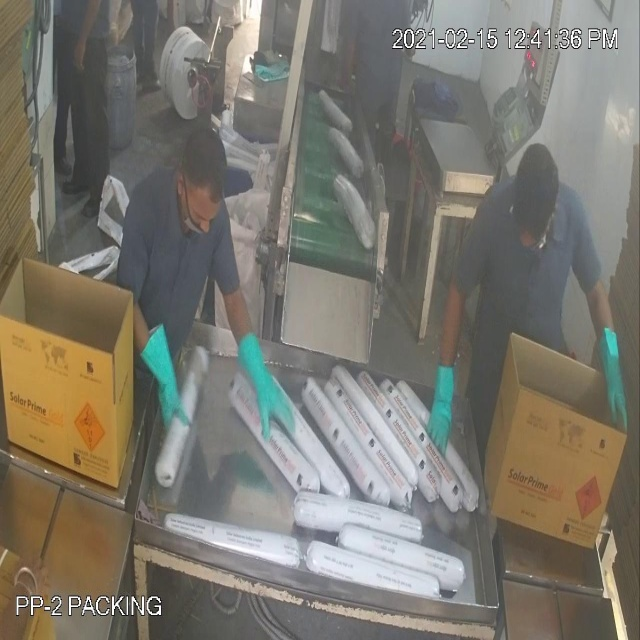Guantes: (228, 312, 300, 460), (133, 311, 194, 454), (593, 309, 634, 441), (425, 348, 469, 464)
Sin_guantes: (64, 1, 104, 84), (330, 28, 359, 103)
